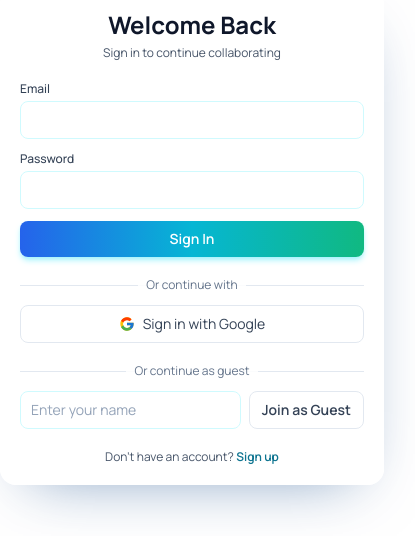
LoginForm › disables form while loading
The width and height of the screenshot is (415, 536).
Type "test@example.com" into the field labelled "Email" at (192, 120), box [20,101,364,139]
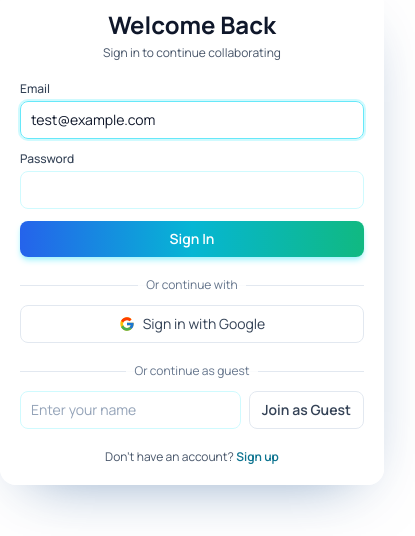
Type "password123" into the password field labelled "Password" at (192, 190), box [20,171,364,209]
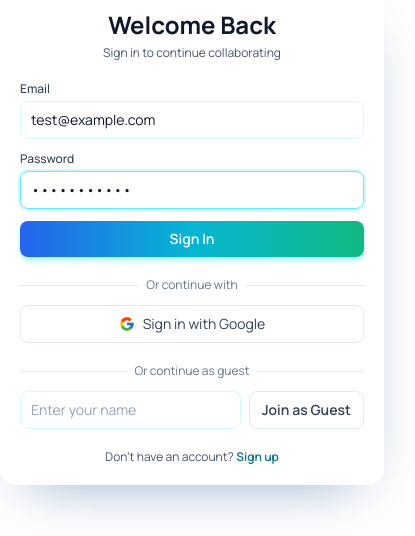
Click the button "Sign In" at (192, 239), box [20,221,364,257]
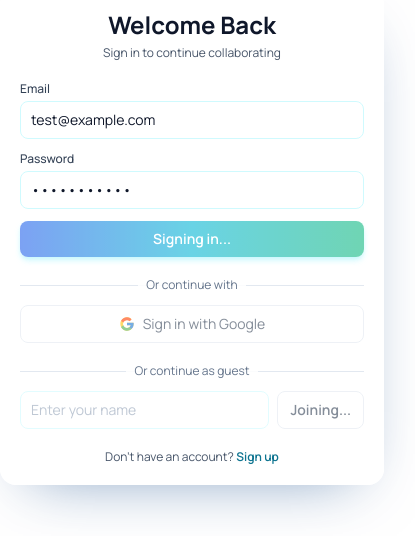
expect the field labelled "Email" is disabled: met, box [20,101,364,139]
expect the button "Signing in..." is disabled: met, box [20,221,364,257]
